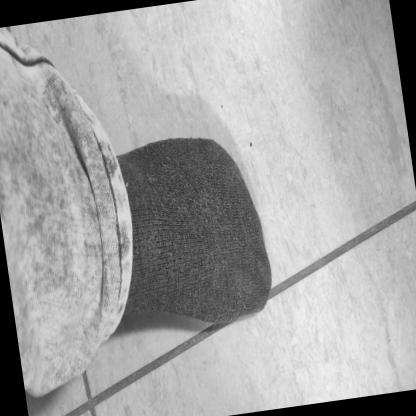ankle: (133, 234, 138, 244)
heel: (103, 303, 108, 313)
left_foot: (66, 127, 278, 343)
pinky: (207, 145, 212, 154)
toe: (259, 284, 264, 294)
